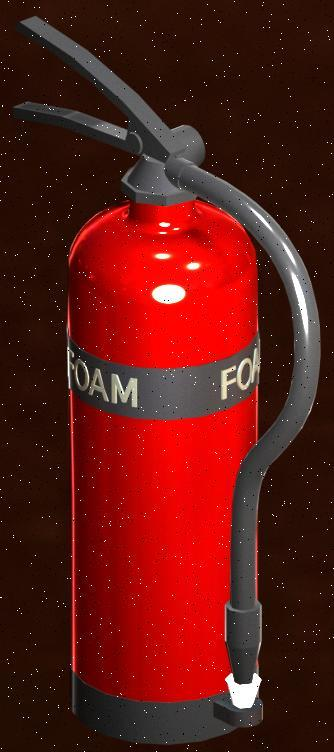Fire Extinguisher: (10, 10, 334, 740)
